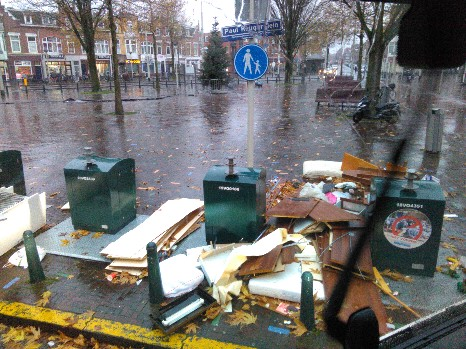Container: (374, 176, 434, 266), (60, 153, 135, 215), (207, 168, 257, 240)
Rest: (137, 240, 318, 314), (289, 177, 379, 320), (127, 190, 200, 288), (325, 155, 431, 179)
